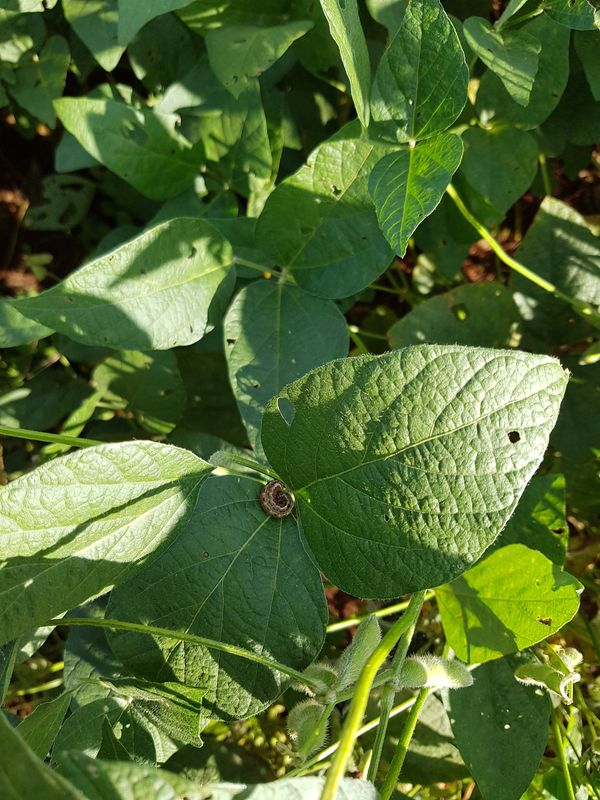Spodoptera_albula: (244, 470, 307, 527)
